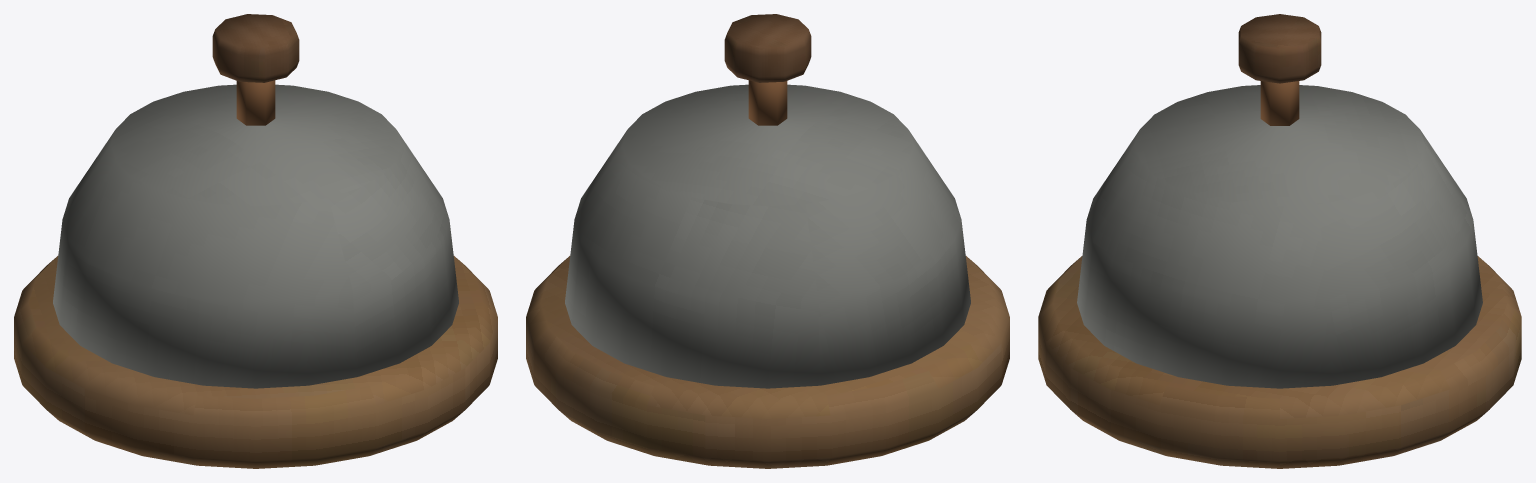
Rendered from bell.glb.
3 views of the same model, side by side, from view 1: azimuth 30°, elevation 25°; view 2: azimuth 150°, elevation 25°; view 3: azimuth 270°, elevation 25° (orthographic).
Parts seen in each view (by area): view 1: bell_felt_tin, bell_wood, bell_button, bell_wood_dark; view 2: bell_felt_tin, bell_wood, bell_button, bell_wood_dark; view 3: bell_felt_tin, bell_wood, bell_button, bell_wood_dark.
Boxes of the visible parts, x1,y1,x2,y2 form: bell_felt_tin: (53,84,458,388); bell_wood: (14,256,497,468); bell_button: (212,14,299,82); bell_wood_dark: (236,80,275,125); bell_felt_tin: (565,84,970,388); bell_wood: (526,256,1009,468); bell_button: (724,14,811,82); bell_wood_dark: (748,80,787,125); bell_felt_tin: (1077,85,1482,388); bell_wood: (1038,256,1521,468); bell_button: (1238,14,1321,83); bell_wood_dark: (1260,81,1299,125).
Size of the model in its own units: 0.2 by 0.156 by 0.2.
Materials: 4 (3 with a texture image).
